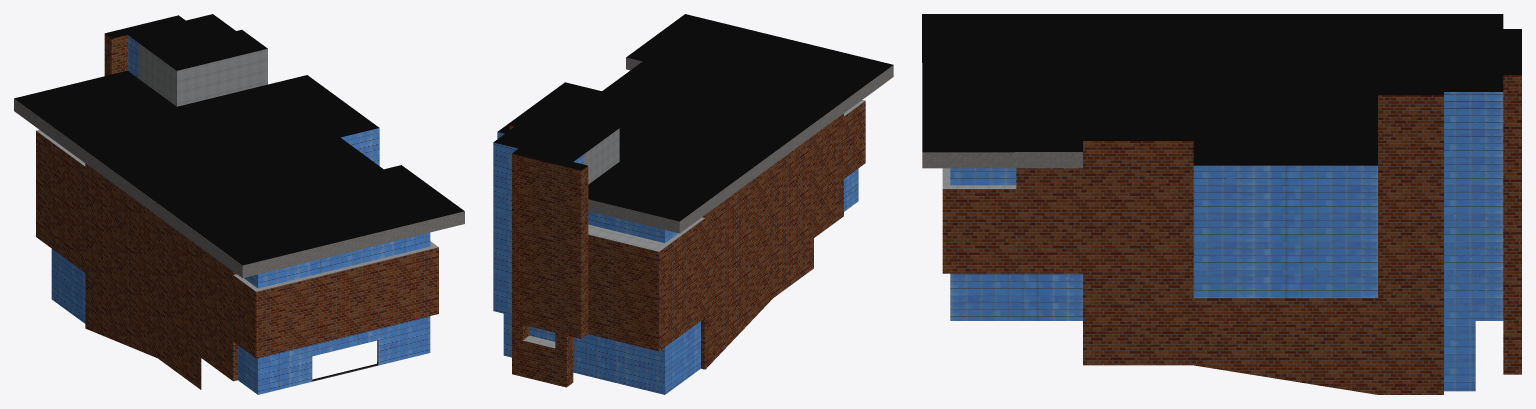
Rendered from AzrieliPavillionShell.glb.
The picture shows the model from 3 angles, left to right: view 1: azimuth 30°, elevation 25°; view 2: azimuth 150°, elevation 25°; view 3: azimuth 270°, elevation 25°; orthographic projection. The views are drawn at different scales.
Parts seen in each view (by area): view 1: AzrieliPavillionShell; view 2: AzrieliPavillionShell; view 3: AzrieliPavillionShell.
Boxes of the visible parts, x1,y1,x2,y2 form: AzrieliPavillionShell: (14, 14, 464, 394); AzrieliPavillionShell: (493, 14, 893, 394); AzrieliPavillionShell: (922, 14, 1521, 394).
Bounding box in the file's own units: 23.53 × 21.69 × 39.36.
Materials: 6 (6 with a texture image).
